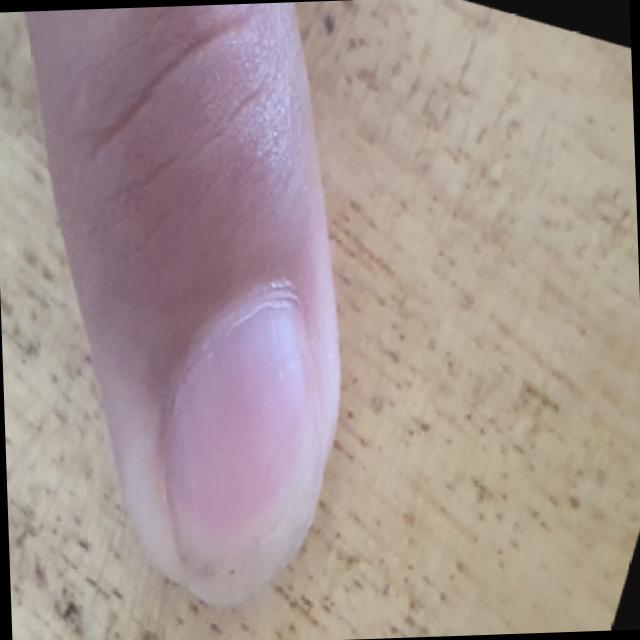Nail: (162, 297, 326, 600)
